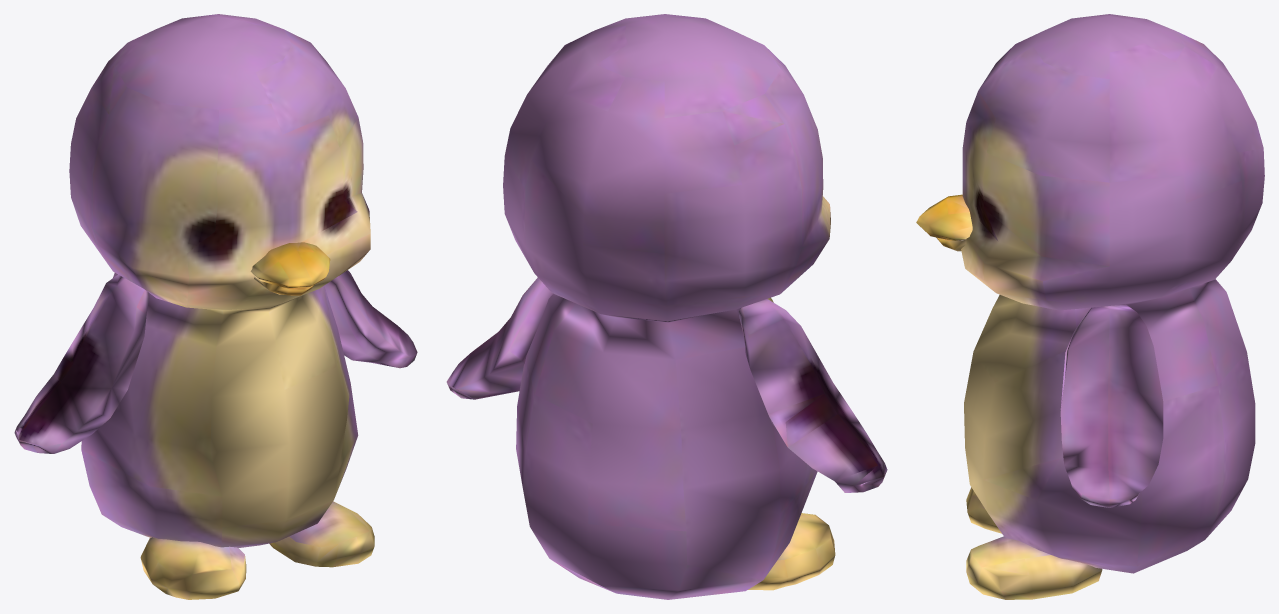
The model's file is penguin-05-14-lavender-vinyl-penguin.gltf.
3 views of the same model, side by side, from view 1: azimuth 30°, elevation 25°; view 2: azimuth 150°, elevation 25°; view 3: azimuth 270°, elevation 25° (orthographic). The views are drawn at different scales.
Parts seen in each view (by area): view 1: penguin-05-14-lavender-vinyl-penguin; view 2: penguin-05-14-lavender-vinyl-penguin; view 3: penguin-05-14-lavender-vinyl-penguin.
Part boxes in pixels (box(x1,y1,x2,y2)): penguin-05-14-lavender-vinyl-penguin: box(14, 14, 417, 599); penguin-05-14-lavender-vinyl-penguin: box(446, 14, 887, 599); penguin-05-14-lavender-vinyl-penguin: box(916, 14, 1264, 599).
Bounding box in the file's own units: 0.2 × 0.2448 × 0.1486.
Materials: 1 (1 with a texture image).
